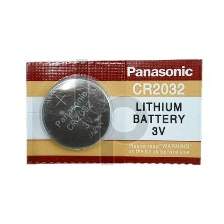battery: (38, 75, 116, 153)
